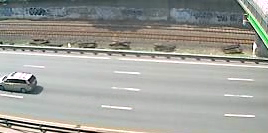car: (1, 70, 39, 98)
